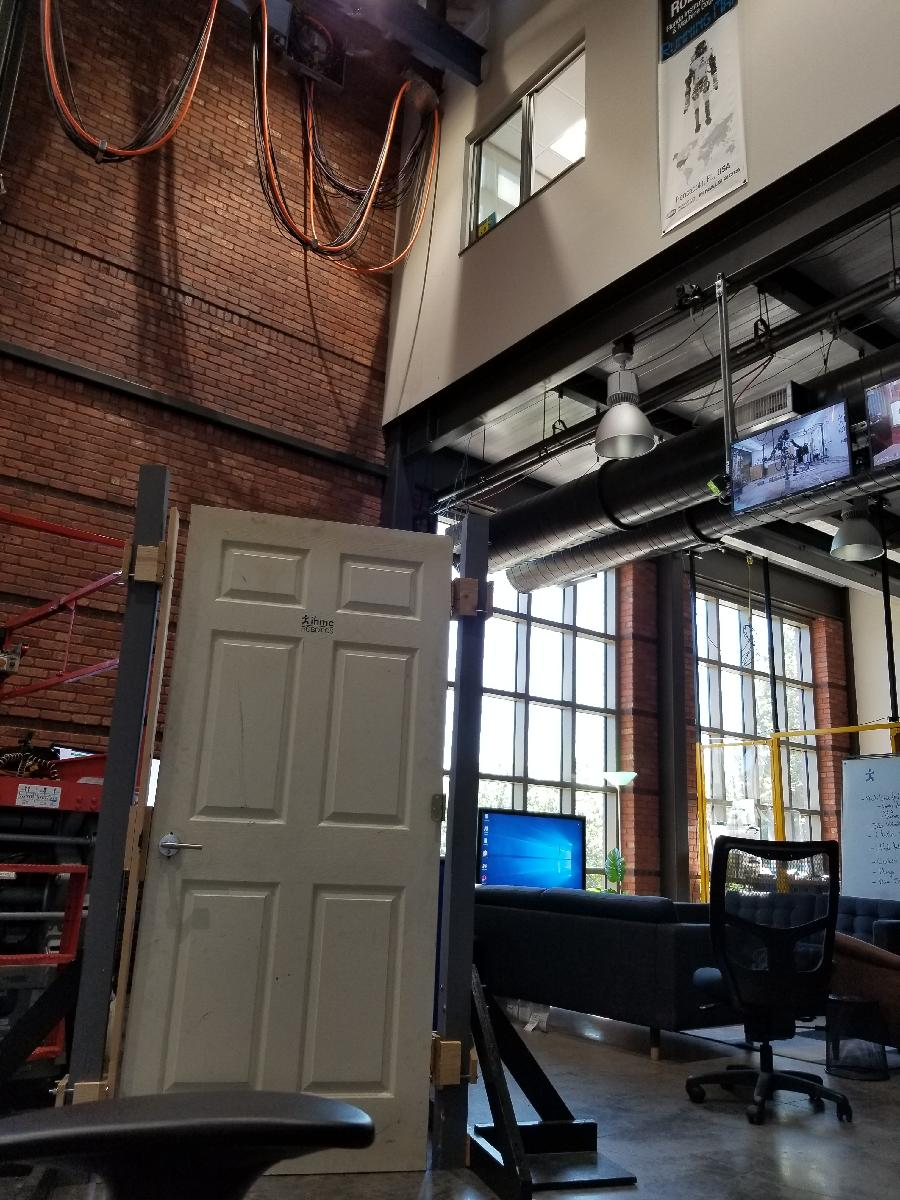door: (93, 499, 466, 1179)
doorHandle: (159, 829, 204, 859)
